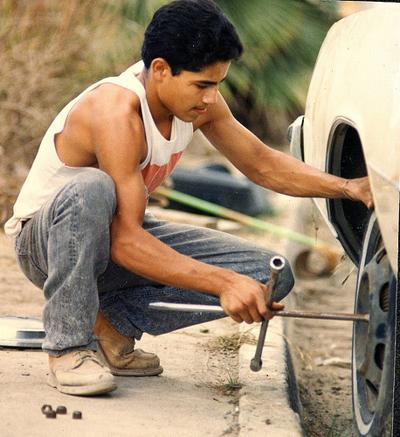person: (13, 1, 374, 397)
